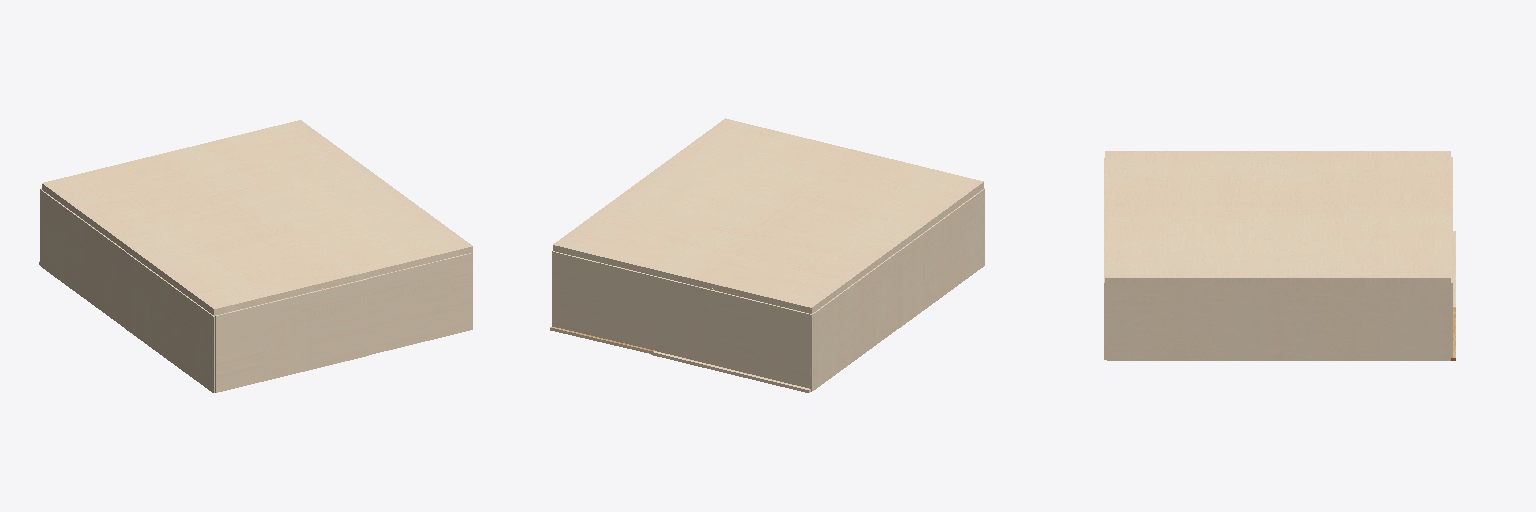
3 views of the same model, side by side, from view 1: azimuth 30°, elevation 25°; view 2: azimuth 150°, elevation 25°; view 3: azimuth 270°, elevation 25° (orthographic).
Parts seen in each view (by area): view 1: polySurface56 pCube10, polySurface869; view 2: polySurface56 pCube10, polySurface869; view 3: polySurface56 pCube10, polySurface869.
Boxes of the visible parts, x1=… form: polySurface56 pCube10: x1=42, y1=120, x2=472, y2=315; polySurface869: x1=39, y1=188, x2=472, y2=392; polySurface56 pCube10: x1=553, y1=118, x2=983, y2=313; polySurface869: x1=550, y1=188, x2=984, y2=392; polySurface56 pCube10: x1=1105, y1=151, x2=1450, y2=283; polySurface869: x1=1104, y1=157, x2=1455, y2=360.
Bounding box in the file's own units: 8.64 × 2.66 × 10.14.
19 materials, 10 textured.